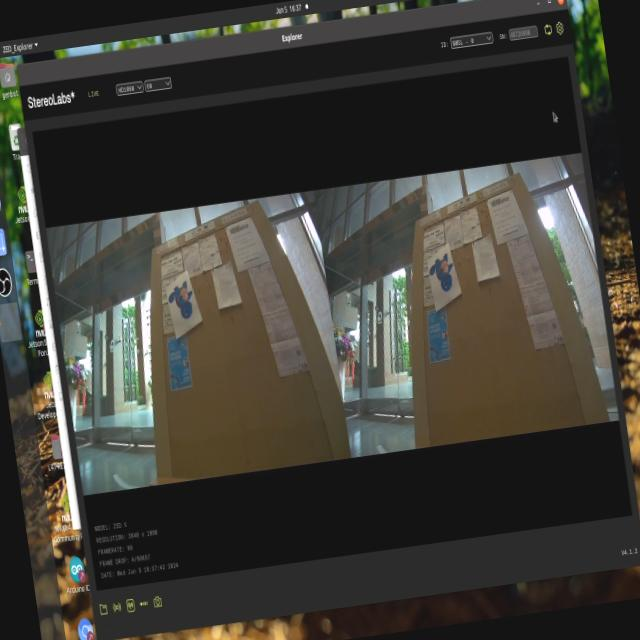blue: (423, 252, 468, 304), (163, 276, 202, 331)
